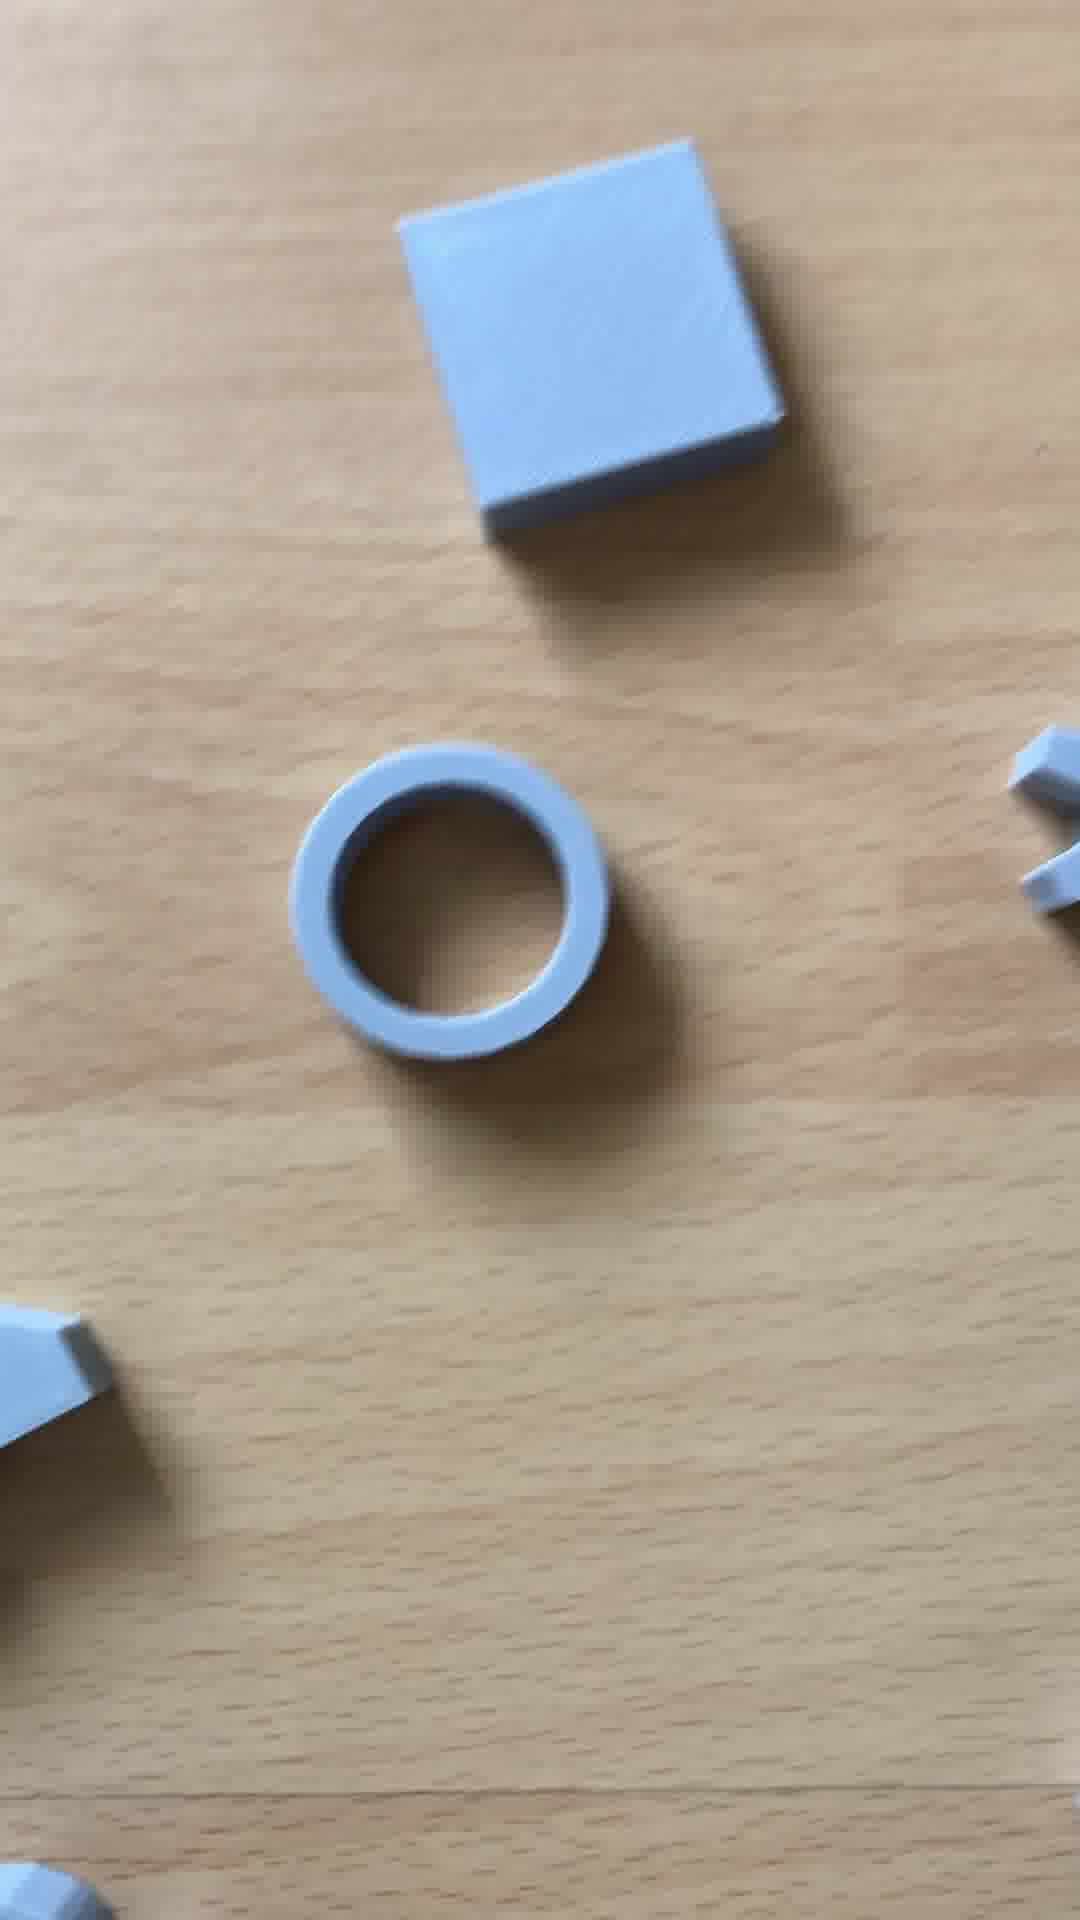Gray ring: (282, 736, 618, 1059)
Gray square: (384, 131, 800, 538)
